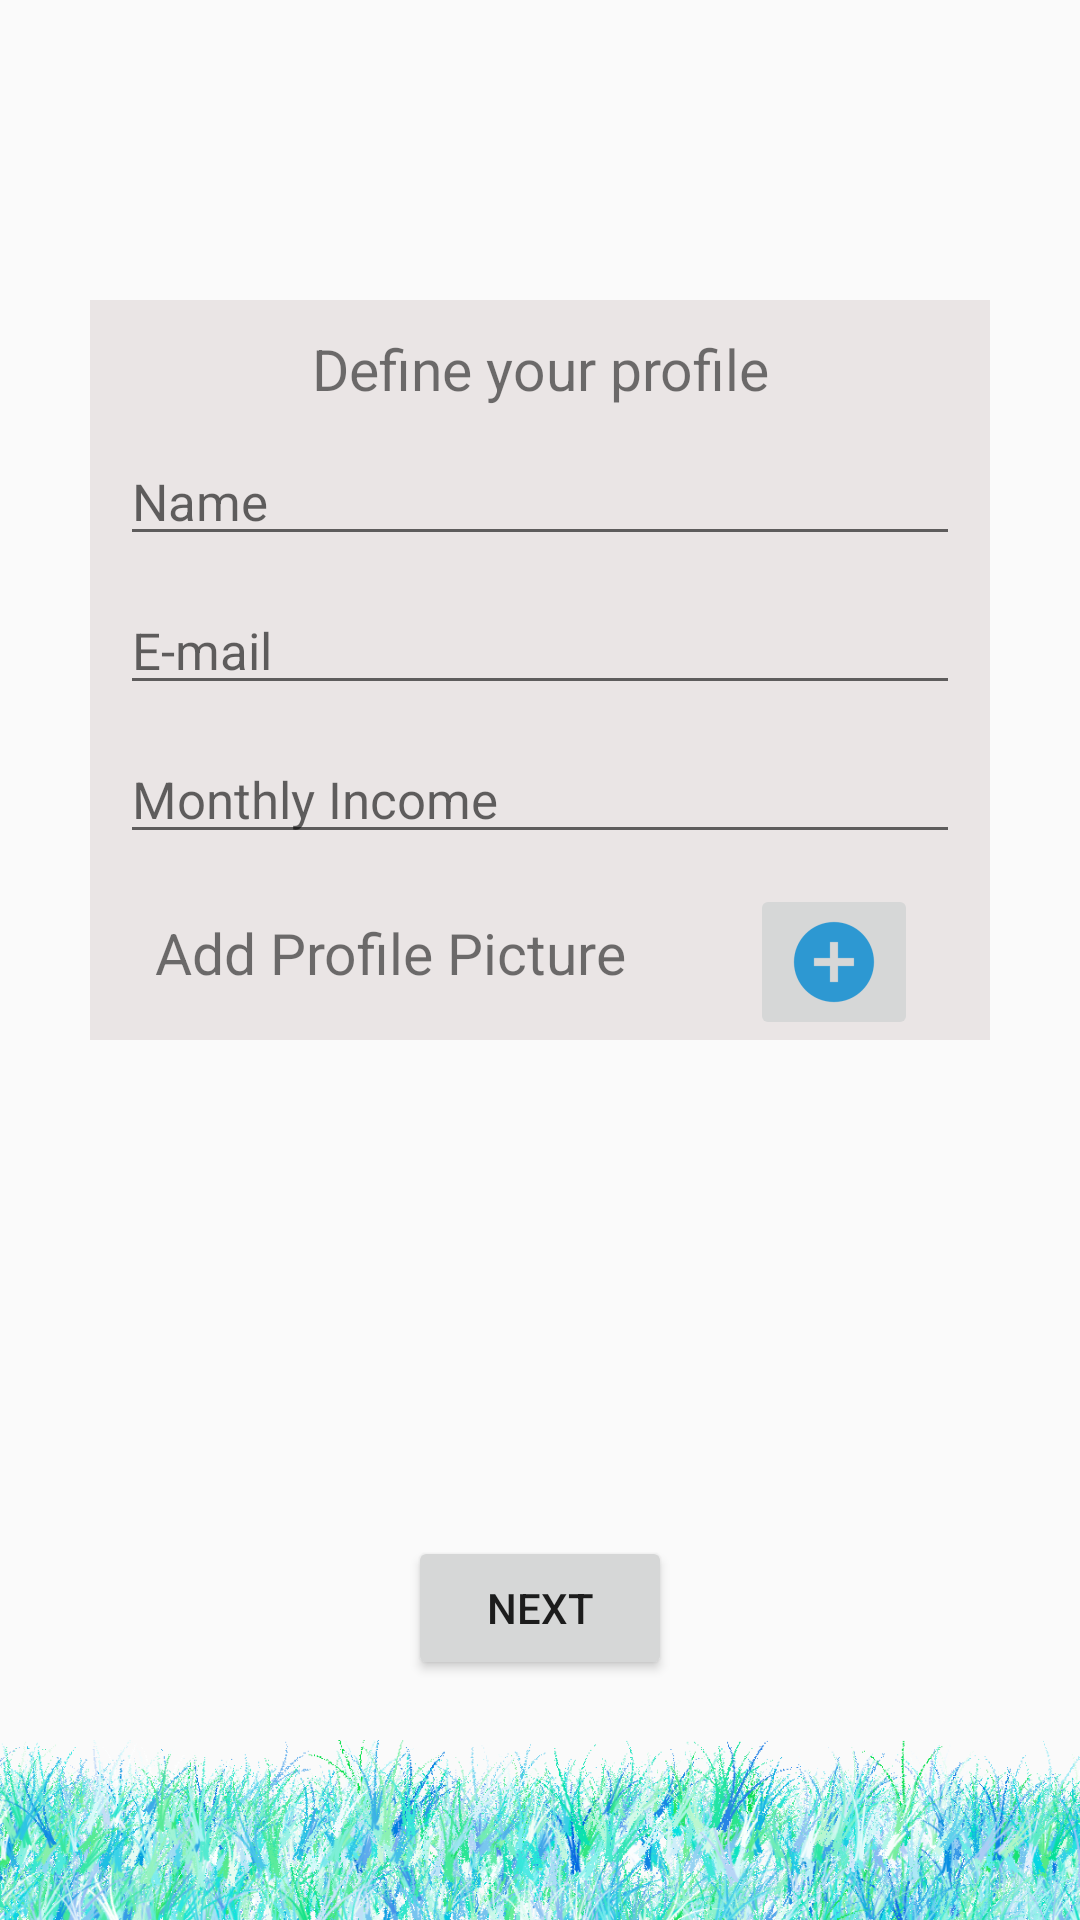

Icons on this 1080w x 1920h Android screen, each with the point to tap as (x=x, y=y):
add item: (x=834, y=962)
